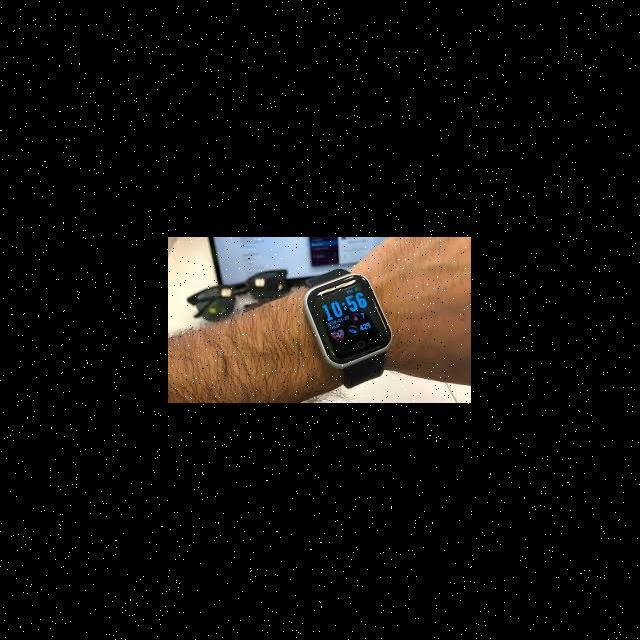watch: (288, 270, 407, 377)
